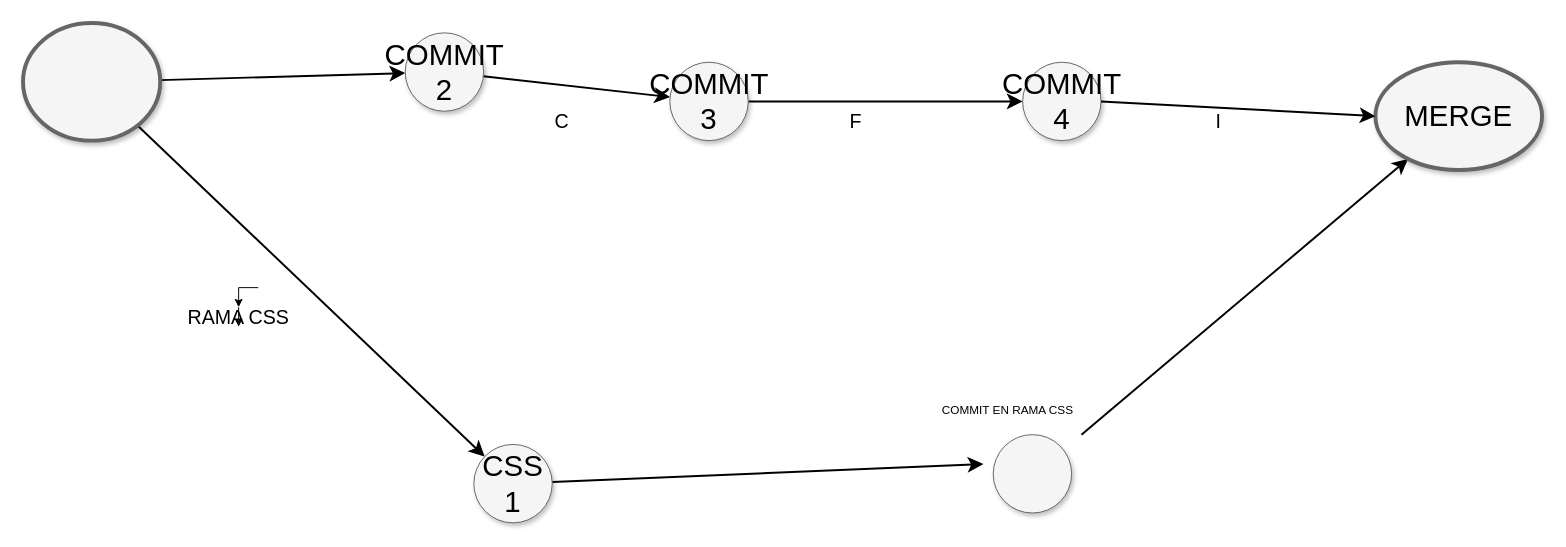
This 1566x547 diagram has some shape labels left out. Each missing label, with the centre of its shape:
CSS 5: (x=1033, y=475)
master: (x=92, y=83)
